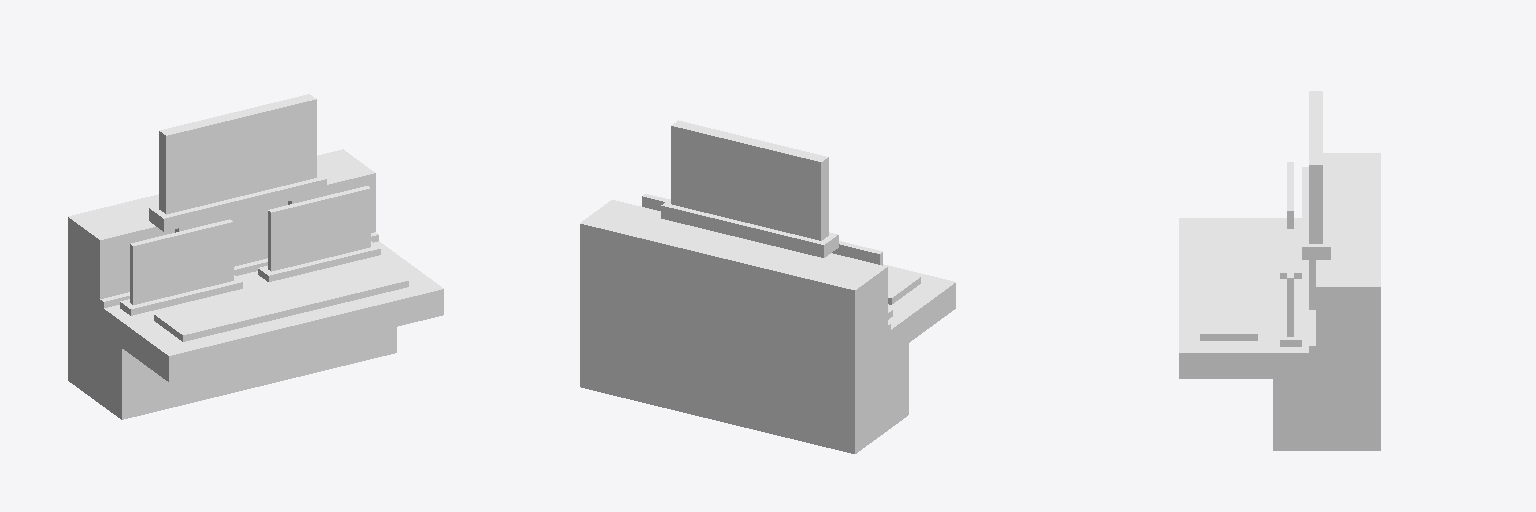
Rendered from mesh_prop_security_cctv.obj.
The picture shows the model from 3 angles: view 1: azimuth 30°, elevation 25°; view 2: azimuth 150°, elevation 25°; view 3: azimuth 270°, elevation 25°; orthographic projection.
Parts seen in each view (by area): view 1: object 1; view 2: object 1; view 3: object 1.
Boxes of the visible parts, <box> form: object 1: <box>68,94,443,419</box>; object 1: <box>580,120,955,453</box>; object 1: <box>1179,91,1380,450</box>.
Bounding box in the file's own units: 4.4 × 3.9 × 2.8.